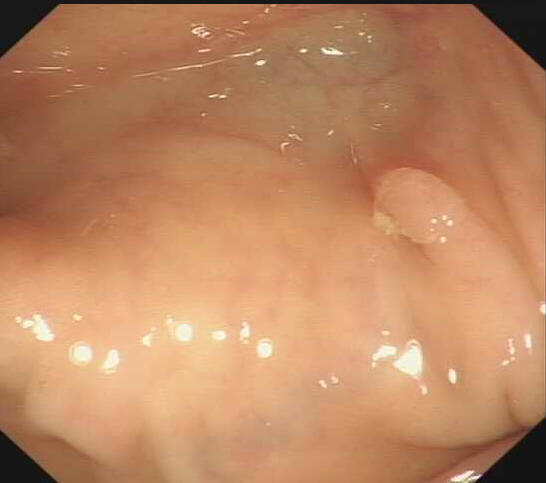others: (368, 157, 469, 247)
